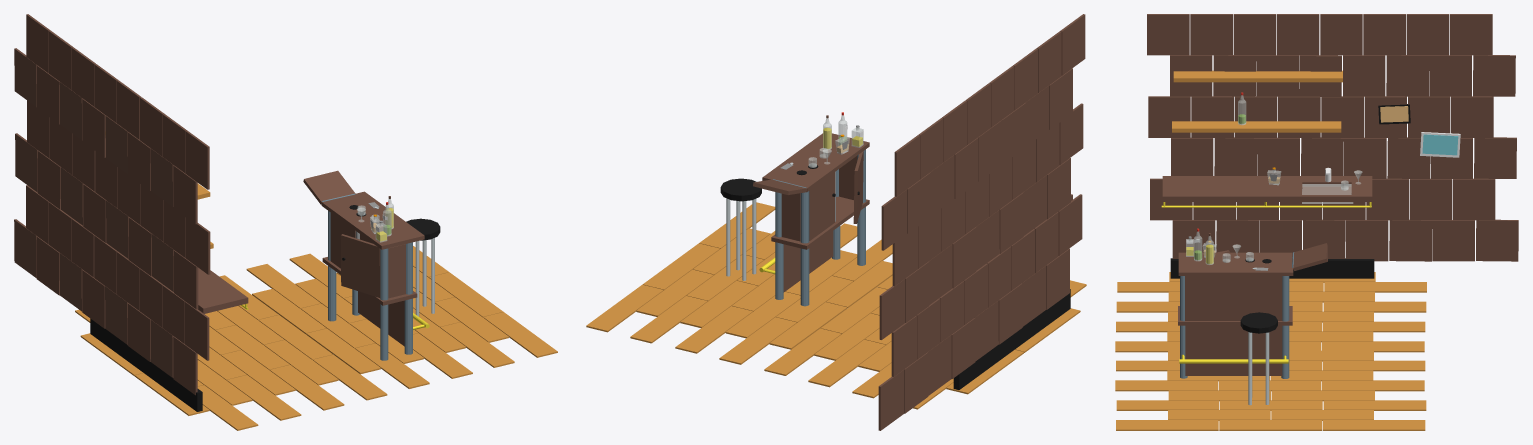
File: scene_hAaKZJAWwO.glb
3 renders of one model, left to right at view 1: azimuth 30°, elevation 25°; view 2: azimuth 150°, elevation 25°; view 3: azimuth 270°, elevation 25°, orthographic. The views are drawn at different scales.
Parts seen in each view (by area): view 1: group1812150061, group539470817, group323451055, group2002611204, group976383494, group2079762324, group1456350140, group1752049962, group108299951, group761840214, group99257900, group2117258881 (+42 smaller); view 2: group1812150061, group539470817, group2002611204, group323451055, group1456350140, group2079762324, group761840214, group1795789033, group1963728854, group461050957, group701100297, group1220315396 (+46 smaller); view 3: group1812150061, group539470817, group323451055, group1752049962, group761840214, group1524081960, group2002611204, group475826765, group1045765233, group1308432068, group38060829, group707585384 (+50 smaller).
Boxes of the visible parts, x1,y1,x2,y2 form: group1812150061: (14,14,118,328); group539470817: (205,275,387,410); group323451055: (75,309,301,430); group2002611204: (321,191,424,249); group976383494: (340,234,380,297); group2079762324: (90,318,202,411); group1456350140: (406,218,440,316); group1752049962: (198,268,248,313); group108299951: (306,328,380,374); group761840214: (358,291,404,346); group99257900: (483,312,557,357); group2117258881: (440,322,514,367); group1812150061: (878,83,990,430); group539470817: (764,276,892,387); group2002611204: (762,133,869,191); group323451055: (852,280,1086,409); group1456350140: (720,178,761,280); group2079762324: (953,289,1070,389); group761840214: (783,231,833,292); group1795789033: (769,302,847,349); group1963728854: (809,172,834,240); group461050957: (675,306,752,353); group701100297: (630,296,707,343); group1220315396: (586,284,663,332); group1812150061: (1320,14,1518,261); group539470817: (1115,311,1425,352); group323451055: (1116,272,1426,312); group1752049962: (1162,176,1372,201); group761840214: (1185,325,1282,375); group1524081960: (1185,276,1282,320); group2002611204: (1178,252,1293,275); group475826765: (1173,70,1342,82); group1045765233: (1172,121,1341,132); group1308432068: (1233,14,1276,55); group38060829: (1190,14,1232,55); group707585384: (1147,14,1189,55).
Bounding box in the file's own units: 5.11 × 3.95 × 5.5.
